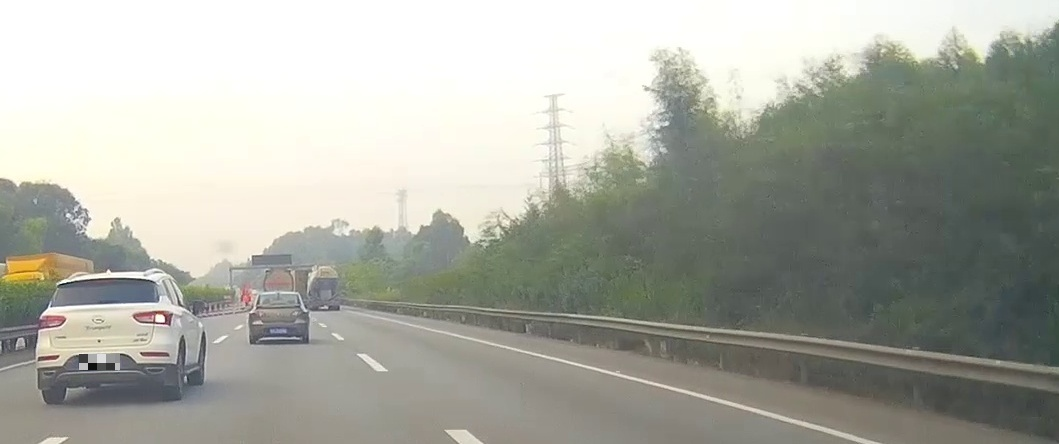L_light: (37, 315, 67, 329), (249, 310, 264, 319)
R_light: (133, 310, 173, 326), (291, 310, 307, 319)
T_light: (99, 278, 115, 280), (274, 293, 282, 296)
day-no: (248, 292, 310, 344)
day-right: (35, 273, 180, 403)
plate_1: (79, 354, 120, 370)
